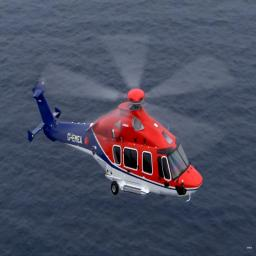helicopter: (15, 34, 217, 229)
